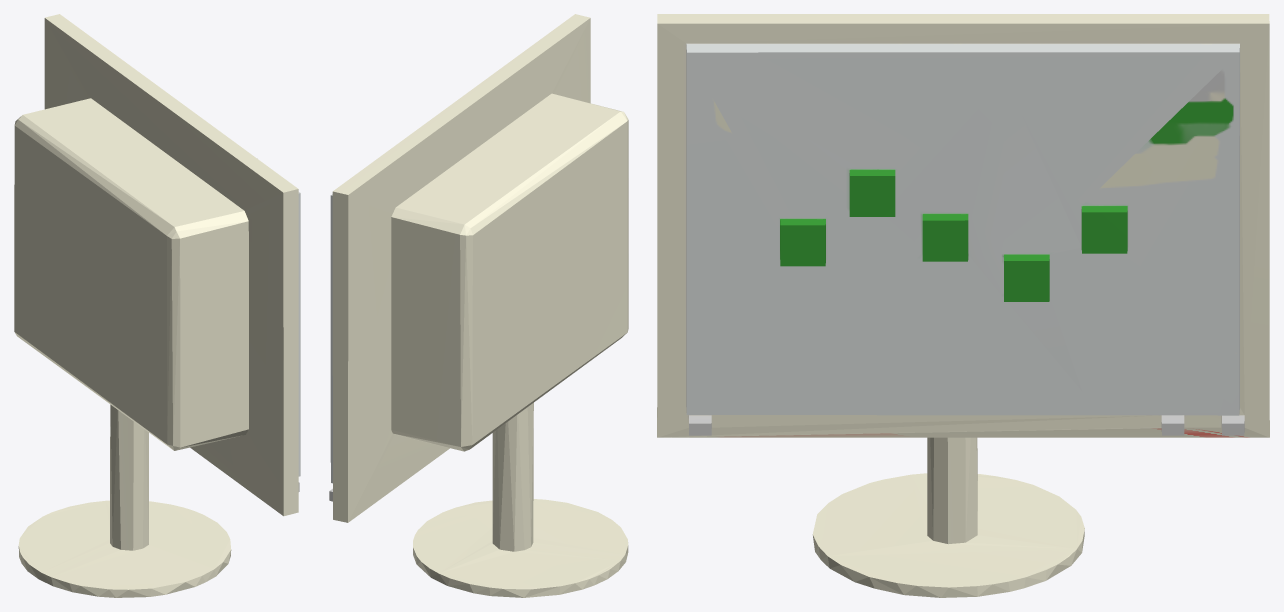
Rendered from monitor.obj.
3 views of the same model, side by side, from view 1: azimuth 30°, elevation 25°; view 2: azimuth 150°, elevation 25°; view 3: azimuth 270°, elevation 25° (orthographic). The views are drawn at different scales.
Visible parts, largest first — view 1: 283473_23_05_27_07_39_30_0; view 2: 283473_23_05_27_07_39_30_0; view 3: 283473_23_05_27_07_39_30_0.
Boxes of the visible parts, x1,y1,x2,y2 form: 283473_23_05_27_07_39_30_0: (14,14,300,597); 283473_23_05_27_07_39_30_0: (329,14,628,597); 283473_23_05_27_07_39_30_0: (657,14,1269,597).
Size of the model in its own units: 2.38 by 5.34 by 5.35.
1 material, 1 textured.
